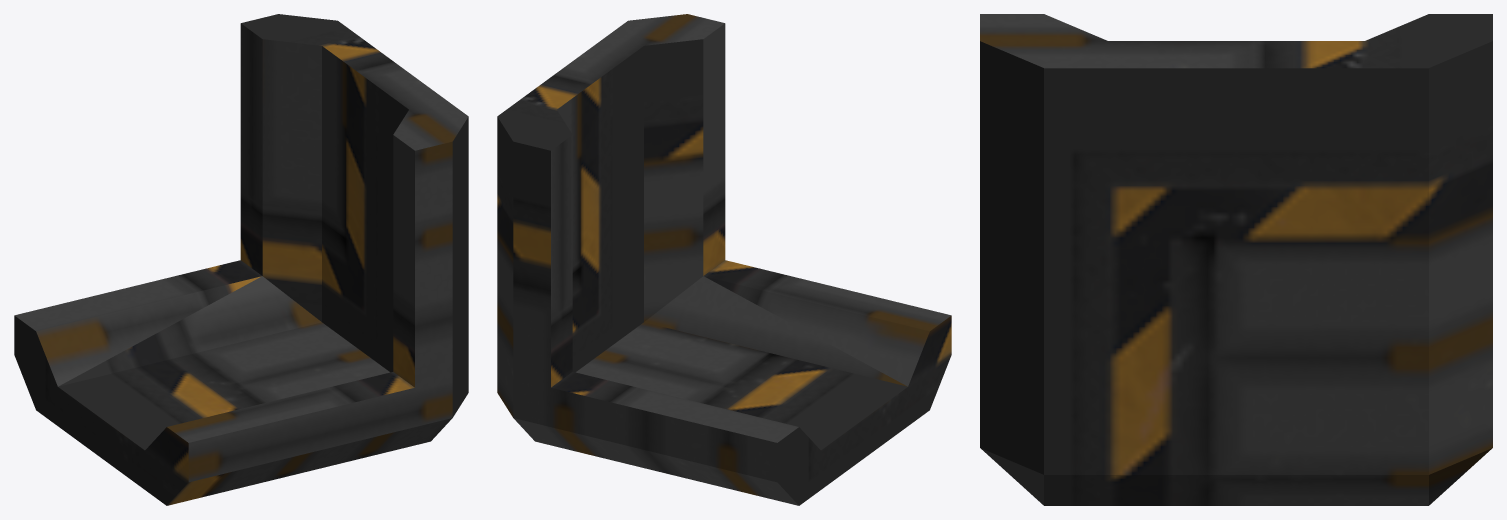
The model's file is ConveyorUp.obj.
3 renders of one model, left to right at view 1: azimuth 30°, elevation 25°; view 2: azimuth 150°, elevation 25°; view 3: azimuth 270°, elevation 25°, orthographic. The views are drawn at different scales.
Visible parts, largest first — view 1: Cube; view 2: Cube; view 3: Cube.
Part boxes in pixels (box(x1,y1,x2,y2)): Cube: box(14, 14, 468, 505); Cube: box(497, 14, 951, 505); Cube: box(980, 14, 1492, 505).
Size of the model in its own units: 1 by 1 by 1.
Materials: 1 (1 with a texture image).
